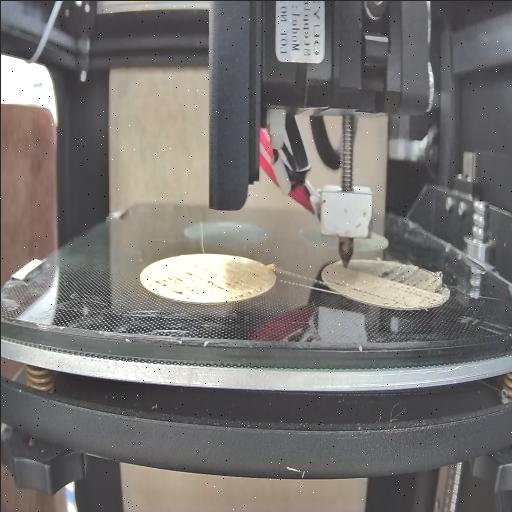under_extrusion: (145, 272, 263, 300), (372, 260, 450, 298), (326, 278, 366, 296)
